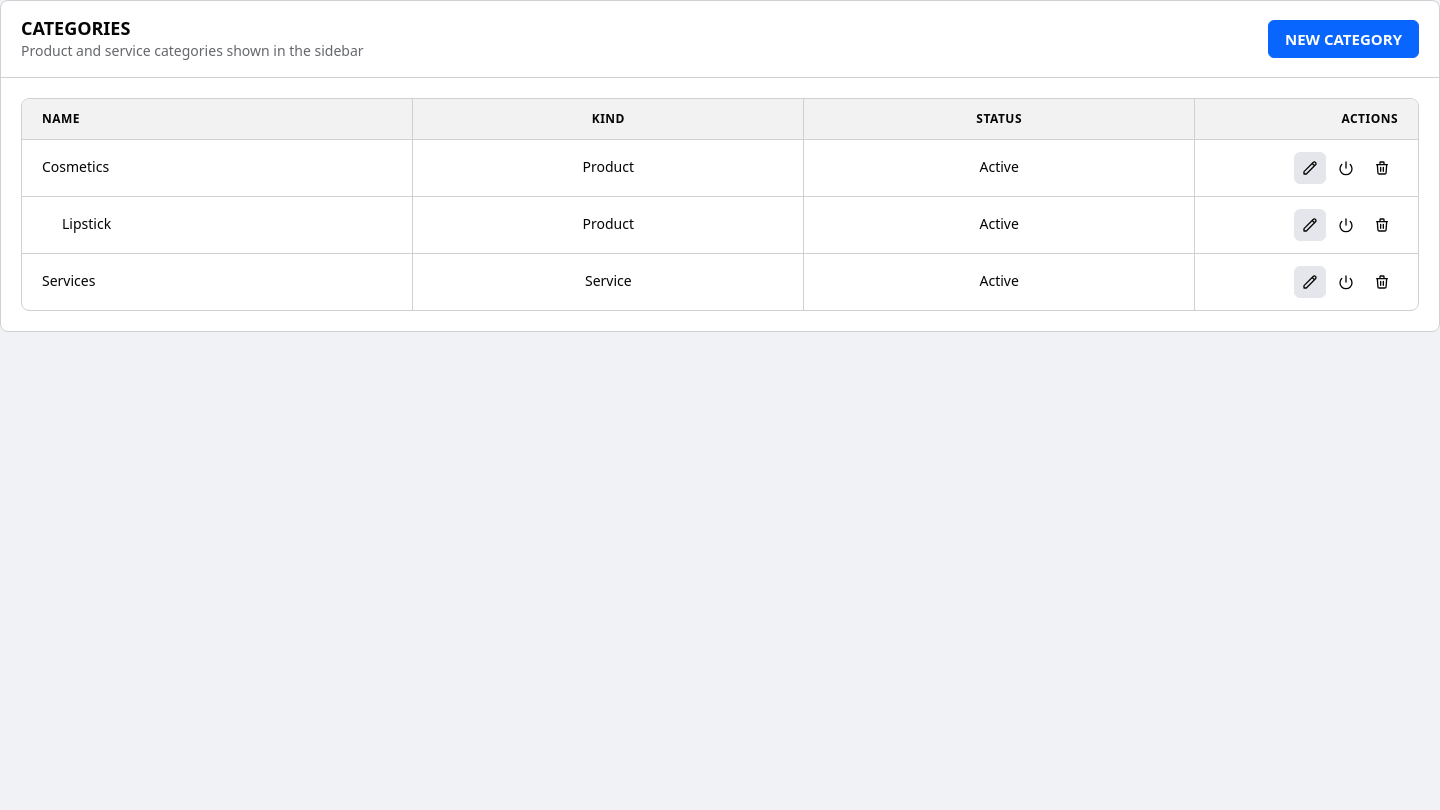
Test case: CategoriesSection › hides the icon picker for a child category
Expected: the text "Cosmetics" is shown, x1=42 y1=158 x2=109 y2=177
Click the button "New category". click: (1344, 39)
box: x1=1268 y1=20 x2=1419 y2=58
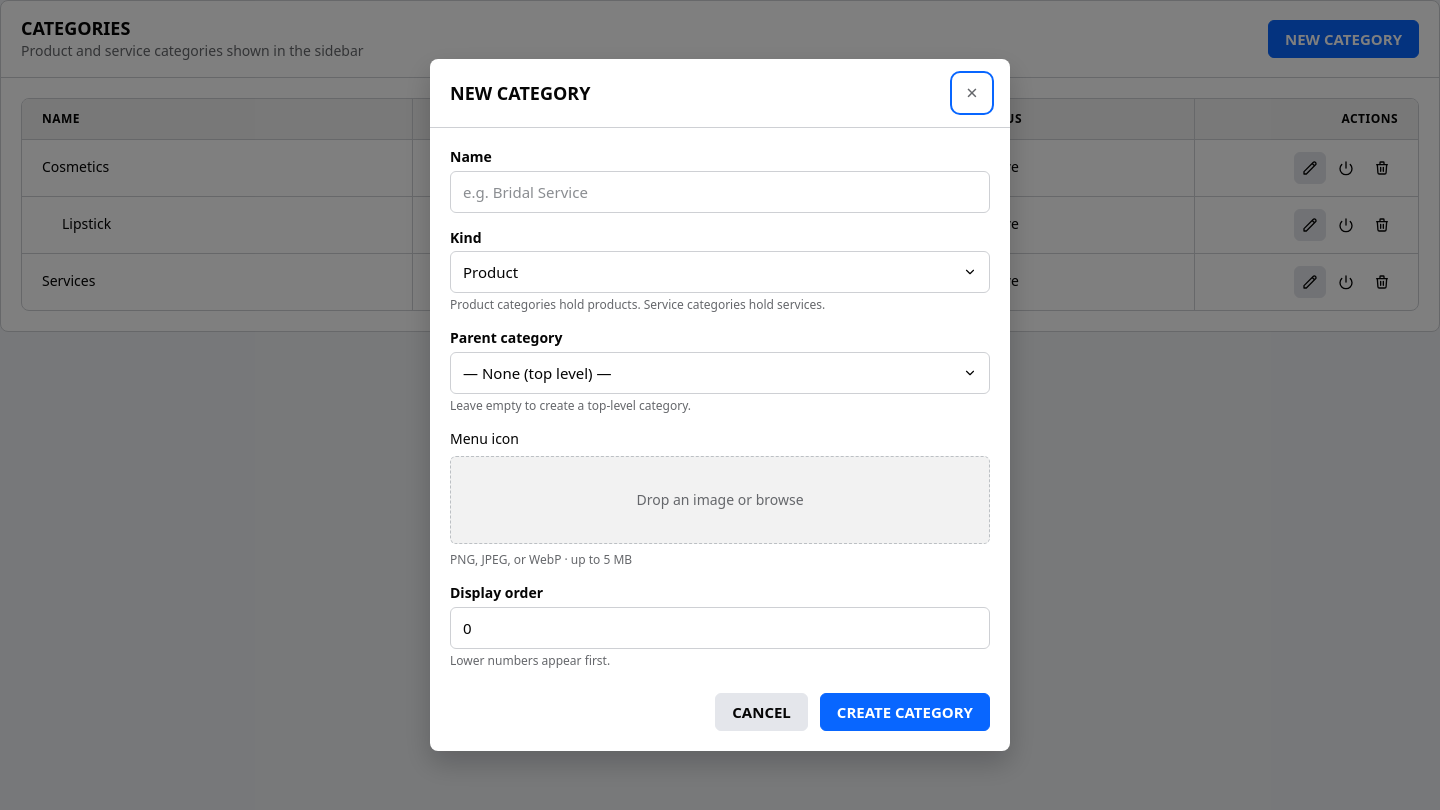
Select "Cosmetics" in the dropdown labelled "Parent category". click: (720, 373)
box: x1=450 y1=352 x2=990 y2=394
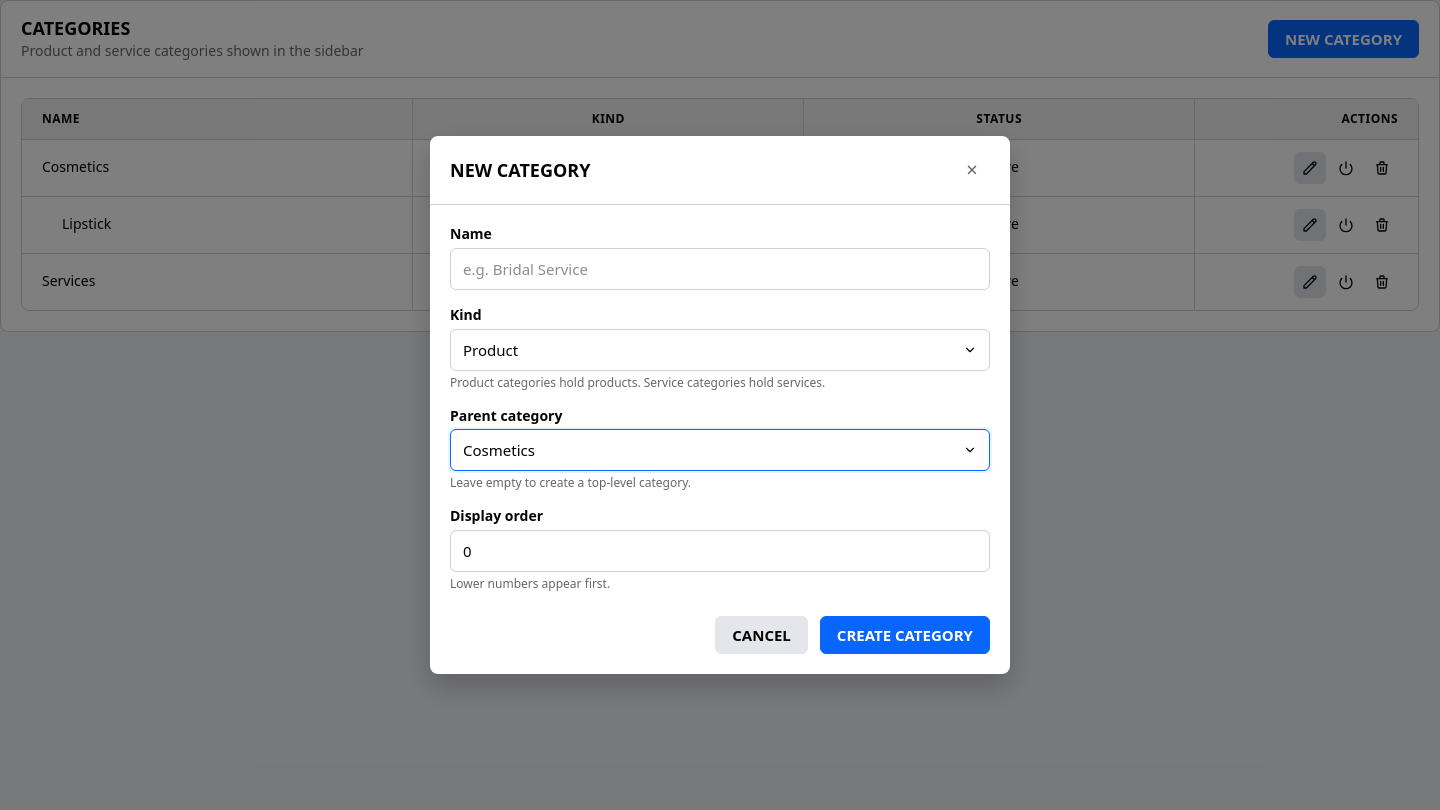
Expected: the text labelled "Menu icon" is gone
